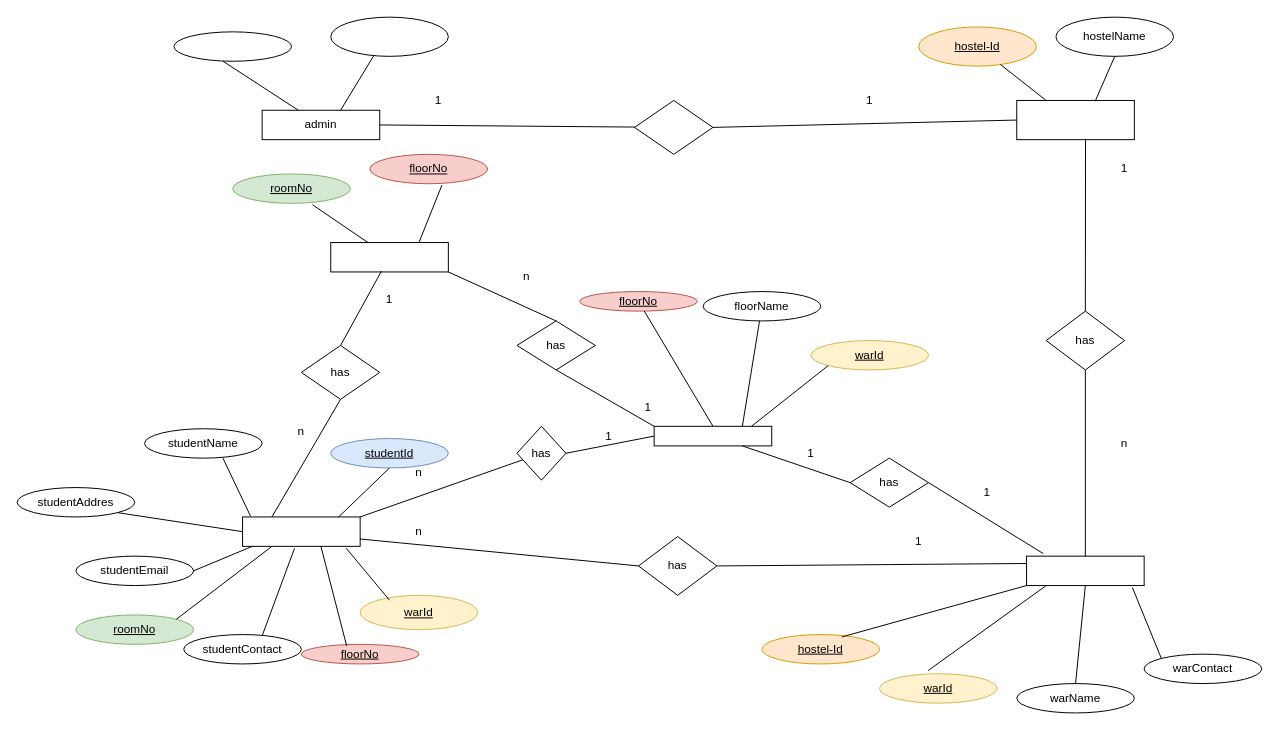
Image size: 1279x730. Some labels were removed from this diagram. Here are the shapes that lost their labels. From the top down, the box of each, then its label:
(173, 31, 292, 61): userName
(330, 16, 448, 56): password
(634, 99, 713, 154): manages
(1016, 99, 1134, 140): hostel
(330, 242, 448, 272): rooms
(653, 425, 772, 446): floor
(242, 516, 360, 546): student
(1026, 555, 1144, 586): warden
